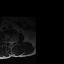CCS_normal: (10, 39, 12, 46)
LFS_normal: (13, 40, 15, 43)
LLS_normal: (12, 40, 13, 45)
RFS_stenosis: (7, 40, 8, 44)
RLS_normal: (8, 40, 10, 44)
